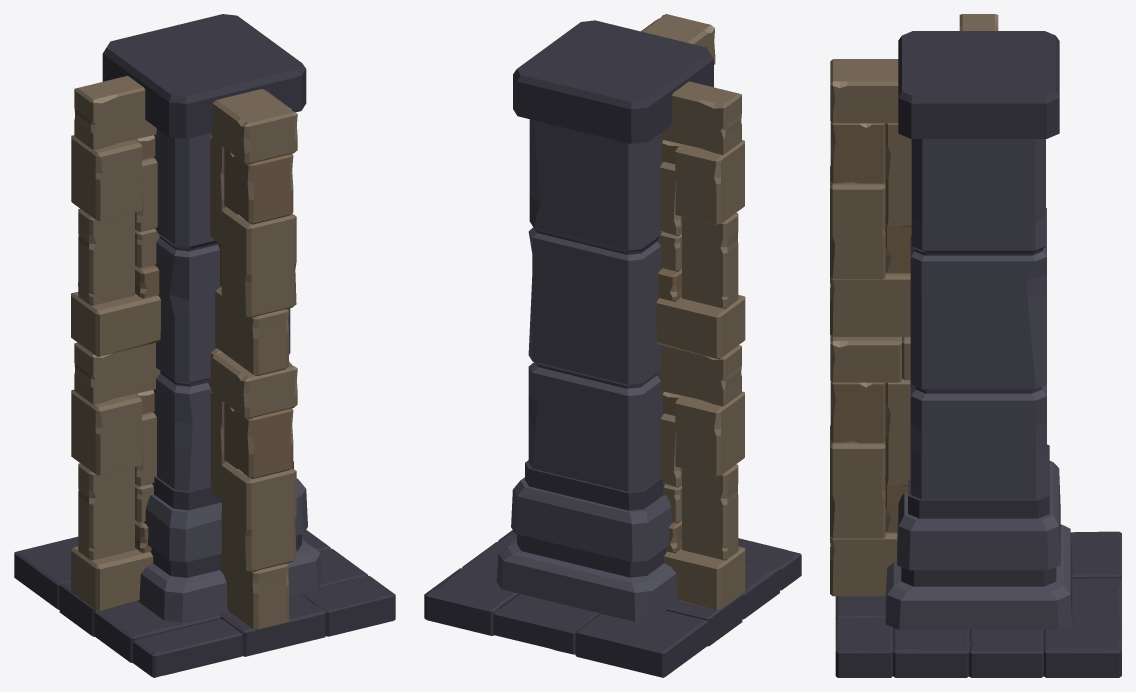
Rendered from corner_column.glb.
The picture shows the model from 3 angles, left to right: view 1: azimuth 30°, elevation 25°; view 2: azimuth 150°, elevation 25°; view 3: azimuth 270°, elevation 25°; orthographic projection. The views are drawn at different scales.
Visible parts, largest first — view 1: corner_column; view 2: corner_column; view 3: corner_column.
Part boxes in pixels (box(x1,y1,x2,y2)): corner_column: box(14, 14, 395, 677); corner_column: box(424, 14, 801, 677); corner_column: box(830, 14, 1121, 677).
Bounding box in the file's own units: 2.01 × 4.3 × 2.04.
Materials: 1 (1 with a texture image).
